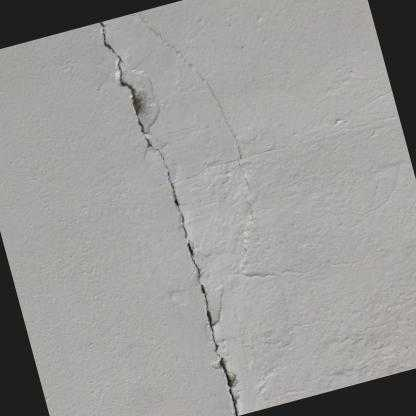crack: (97, 22, 238, 416)
